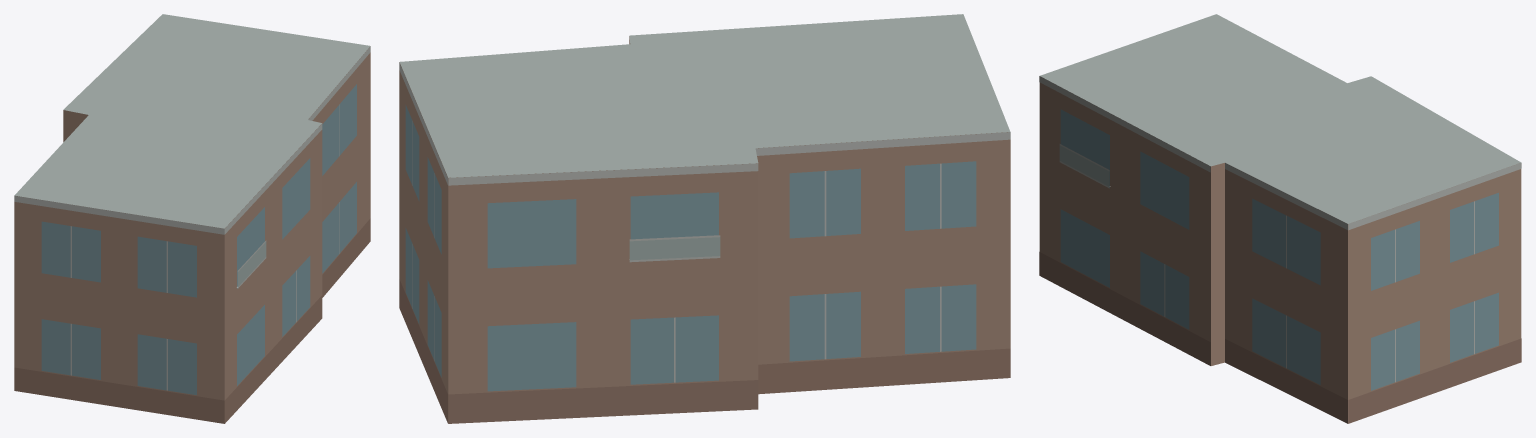
File: survey-upis-32629232.glb
The picture shows the model from 3 angles, left to right: view 1: azimuth 30°, elevation 25°; view 2: azimuth 150°, elevation 25°; view 3: azimuth 270°, elevation 25°; orthographic projection. The views are drawn at different scales.
Parts seen in each view (by area): view 1: survey-upis-32629232.tmp; view 2: survey-upis-32629232.tmp; view 3: survey-upis-32629232.tmp.
Part boxes in pixels (x1,y1,x2,y2): survey-upis-32629232.tmp: (14, 14, 370, 423); survey-upis-32629232.tmp: (399, 14, 1010, 423); survey-upis-32629232.tmp: (1039, 14, 1521, 423).
Size of the model in its own units: 17.37 by 7.7 by 16.84.
